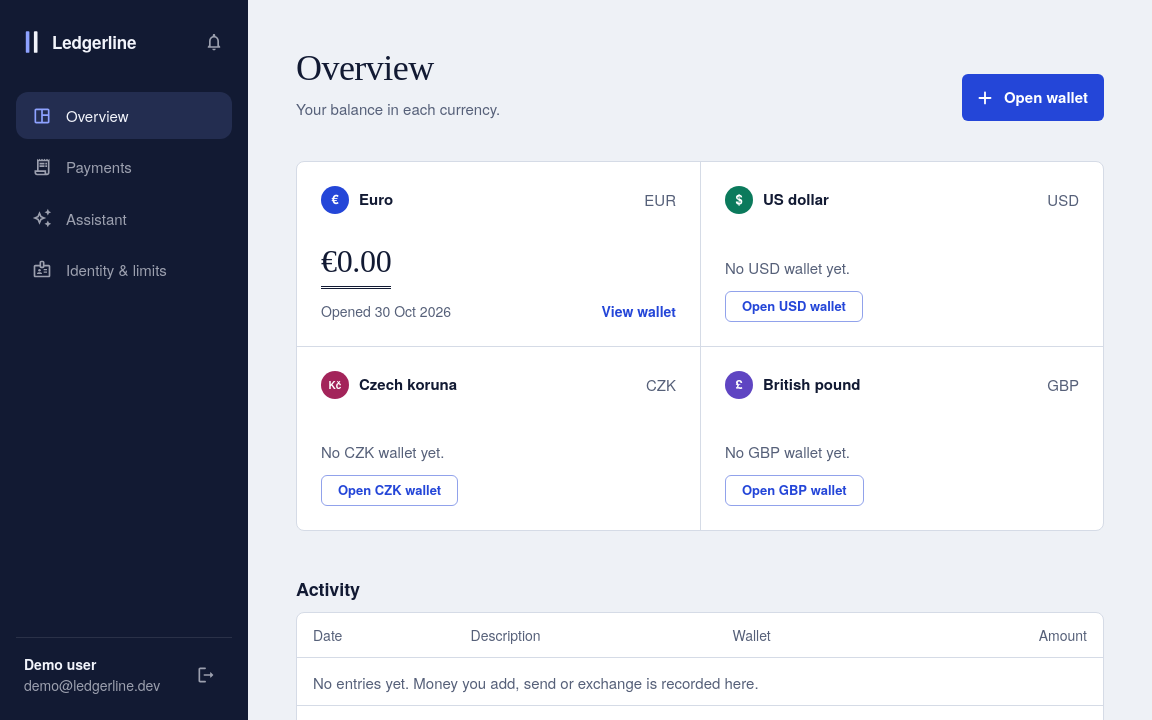
Test case: OverviewPage › does not let the user pick a currency they already hold
Click the button "Open wallet": (1033, 98) top-left (962, 74), bottom-right (1104, 121)
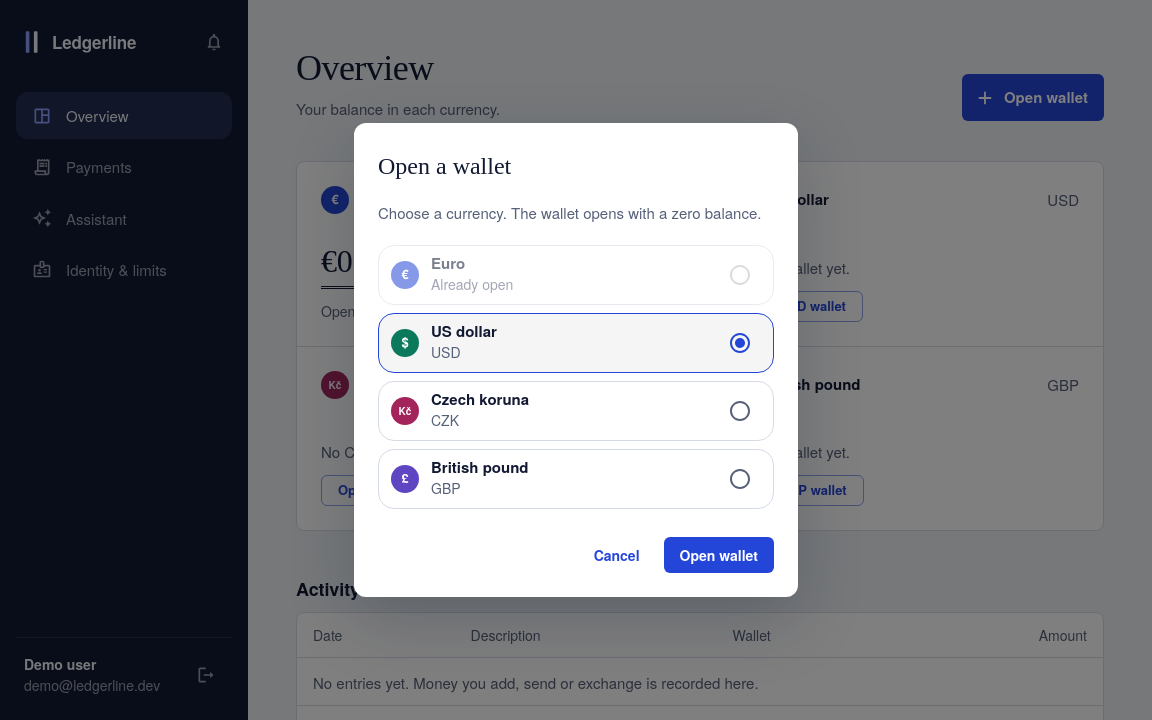
Now the radio button labelled "Euro" is disabled, box top-left (378, 245), bottom-right (774, 305)
Now the radio button labelled "US dollar" is checked, box top-left (378, 313), bottom-right (774, 373)
